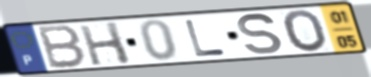0: (138, 18, 183, 63)
B: (37, 24, 89, 71)
H: (76, 20, 134, 67)
L: (183, 18, 229, 58)
O: (281, 8, 331, 54)
S: (236, 12, 285, 56)
